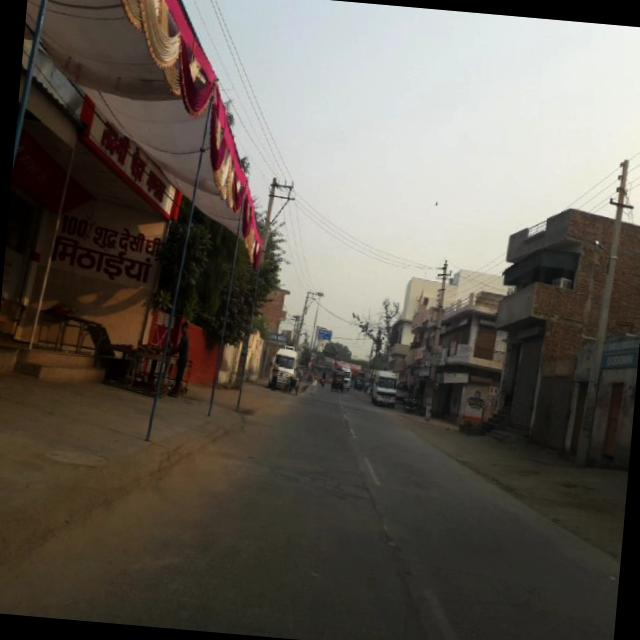pothole: (408, 573, 475, 640)
